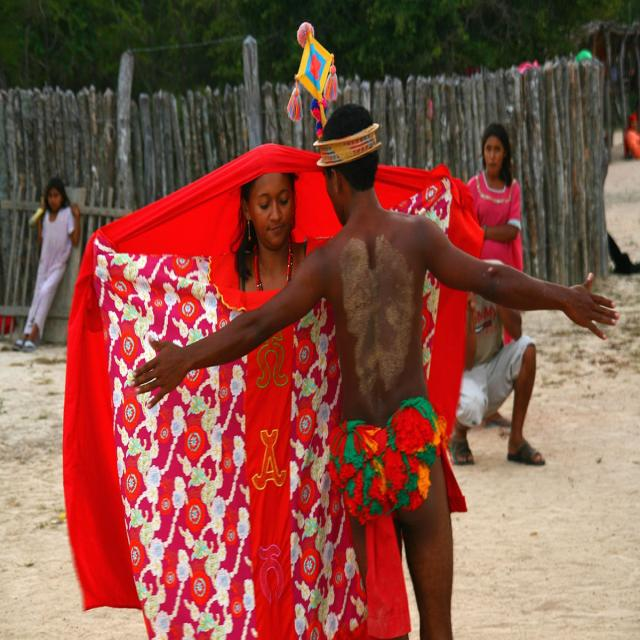body: (130, 97, 621, 640), (58, 139, 489, 639), (448, 258, 546, 468), (10, 174, 81, 355), (467, 122, 523, 273), (624, 112, 639, 160)
